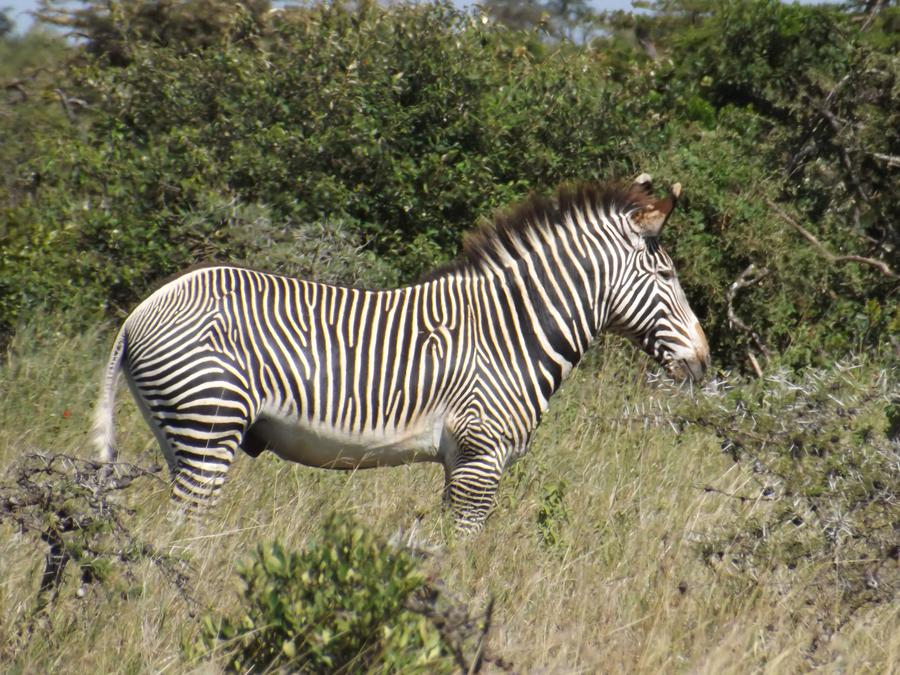zebra_grevys: (106, 232, 525, 467)
